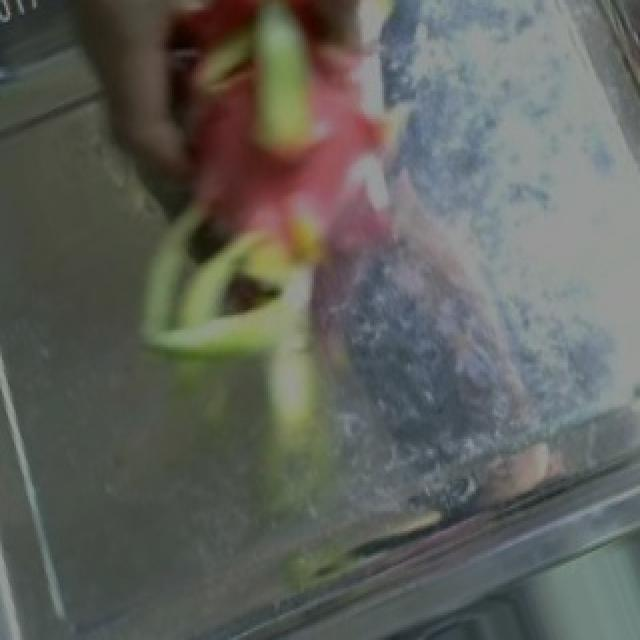fruit: (46, 0, 474, 417)
